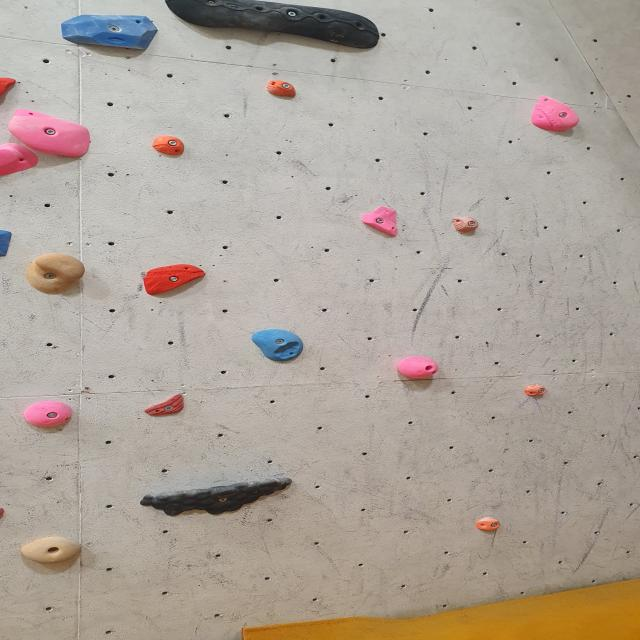Crimp: (61, 14, 156, 49), (146, 263, 206, 298), (532, 93, 580, 136), (361, 207, 408, 236), (144, 393, 191, 419)
Jug: (146, 475, 300, 515), (8, 110, 94, 158), (27, 255, 87, 292), (21, 535, 80, 564)
Pinch: (394, 352, 441, 380), (27, 400, 69, 426), (151, 136, 190, 158), (264, 79, 300, 100), (453, 215, 483, 235), (471, 516, 500, 534), (524, 383, 546, 398)
Sloper: (166, 0, 382, 51), (248, 328, 305, 363)
